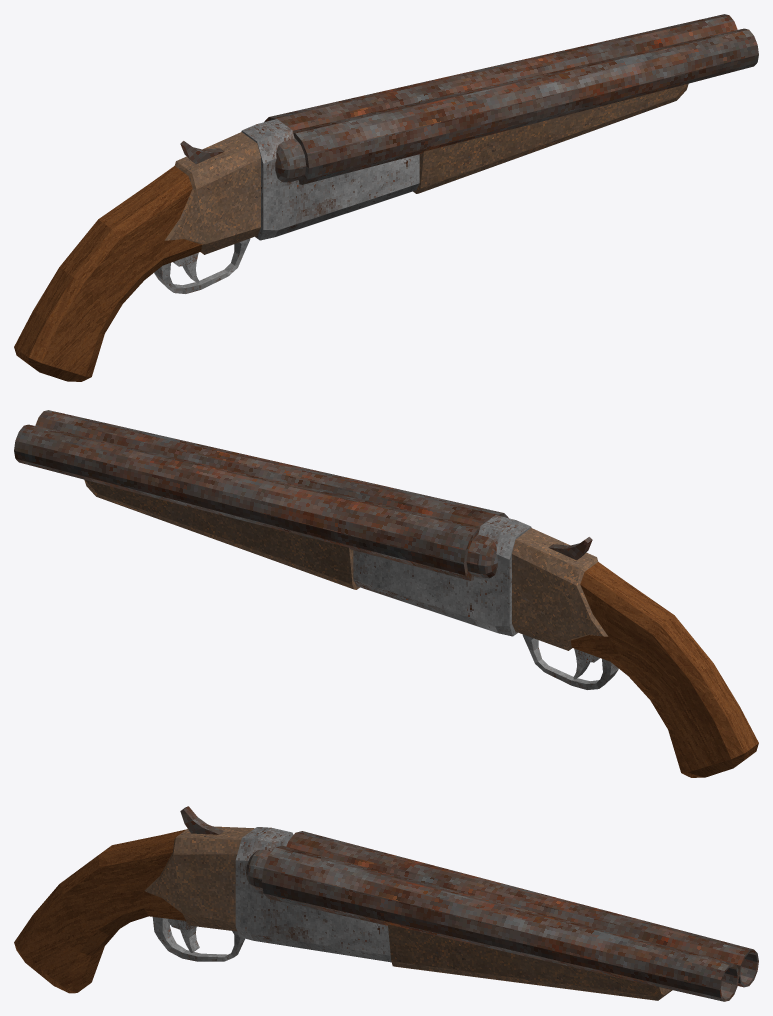
Rendered from sawed off shotgun.glb.
3 renders of one model, top to bottom at view 1: azimuth 30°, elevation 25°; view 2: azimuth 150°, elevation 25°; view 3: azimuth 330°, elevation 25°, orthographic.
Visible parts, largest first — view 1: Shotgun_SawedOff; view 2: Shotgun_SawedOff; view 3: Shotgun_SawedOff.
Boxes of the visible parts, <box> form: Shotgun_SawedOff: <box>14,14,758,381</box>; Shotgun_SawedOff: <box>14,410,758,777</box>; Shotgun_SawedOff: <box>14,806,758,1001</box>.
Size of the model in its own units: 3.69 by 1.02 by 0.4225.
4 materials, 4 textured.
